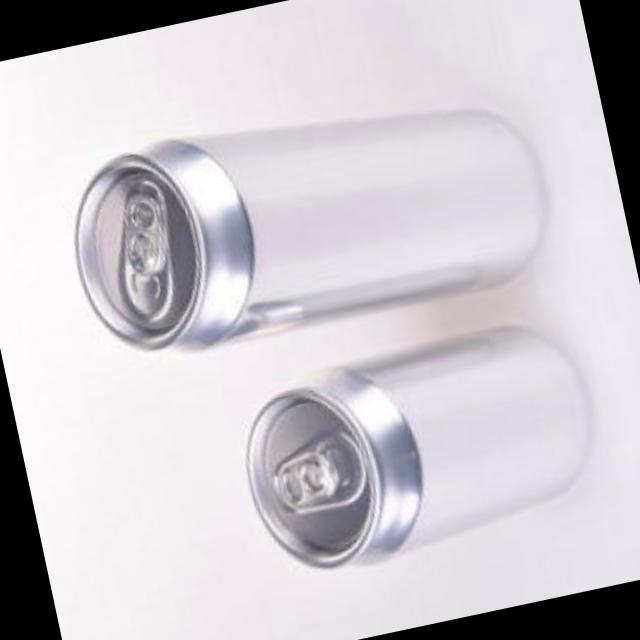metal: (73, 113, 541, 352), (244, 331, 585, 571)
